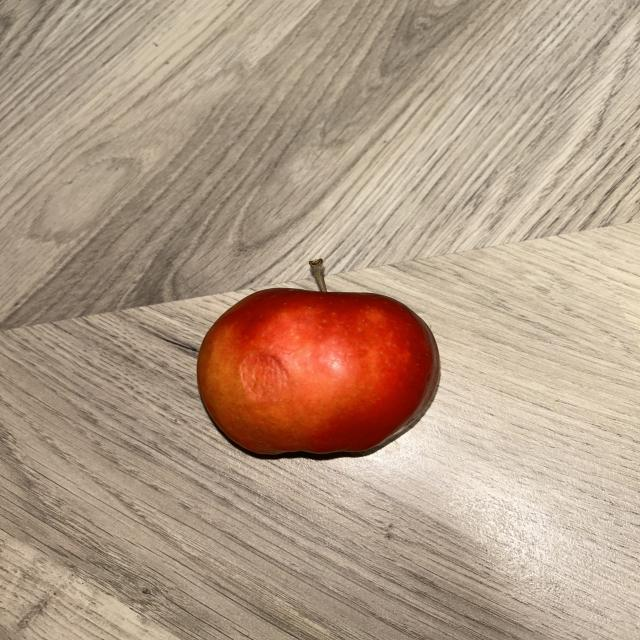apple: (197, 259, 440, 455)
